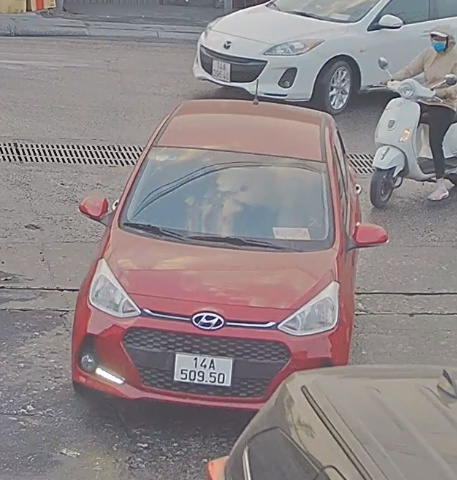vehicle plate: (166, 345, 236, 388)
